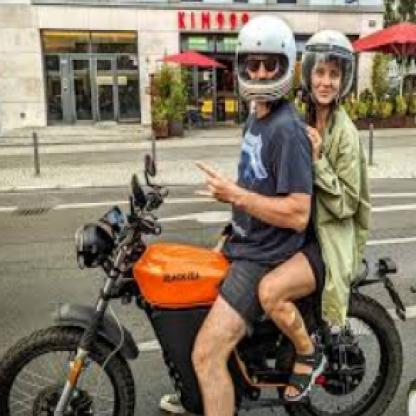helmet: (235, 15, 297, 104), (299, 29, 357, 105)
